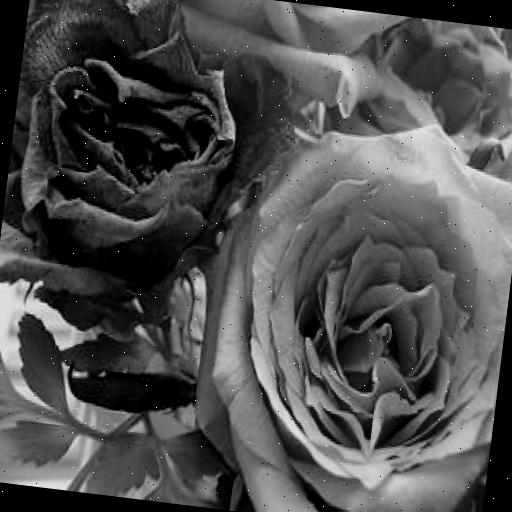rose: (175, 101, 512, 512)
